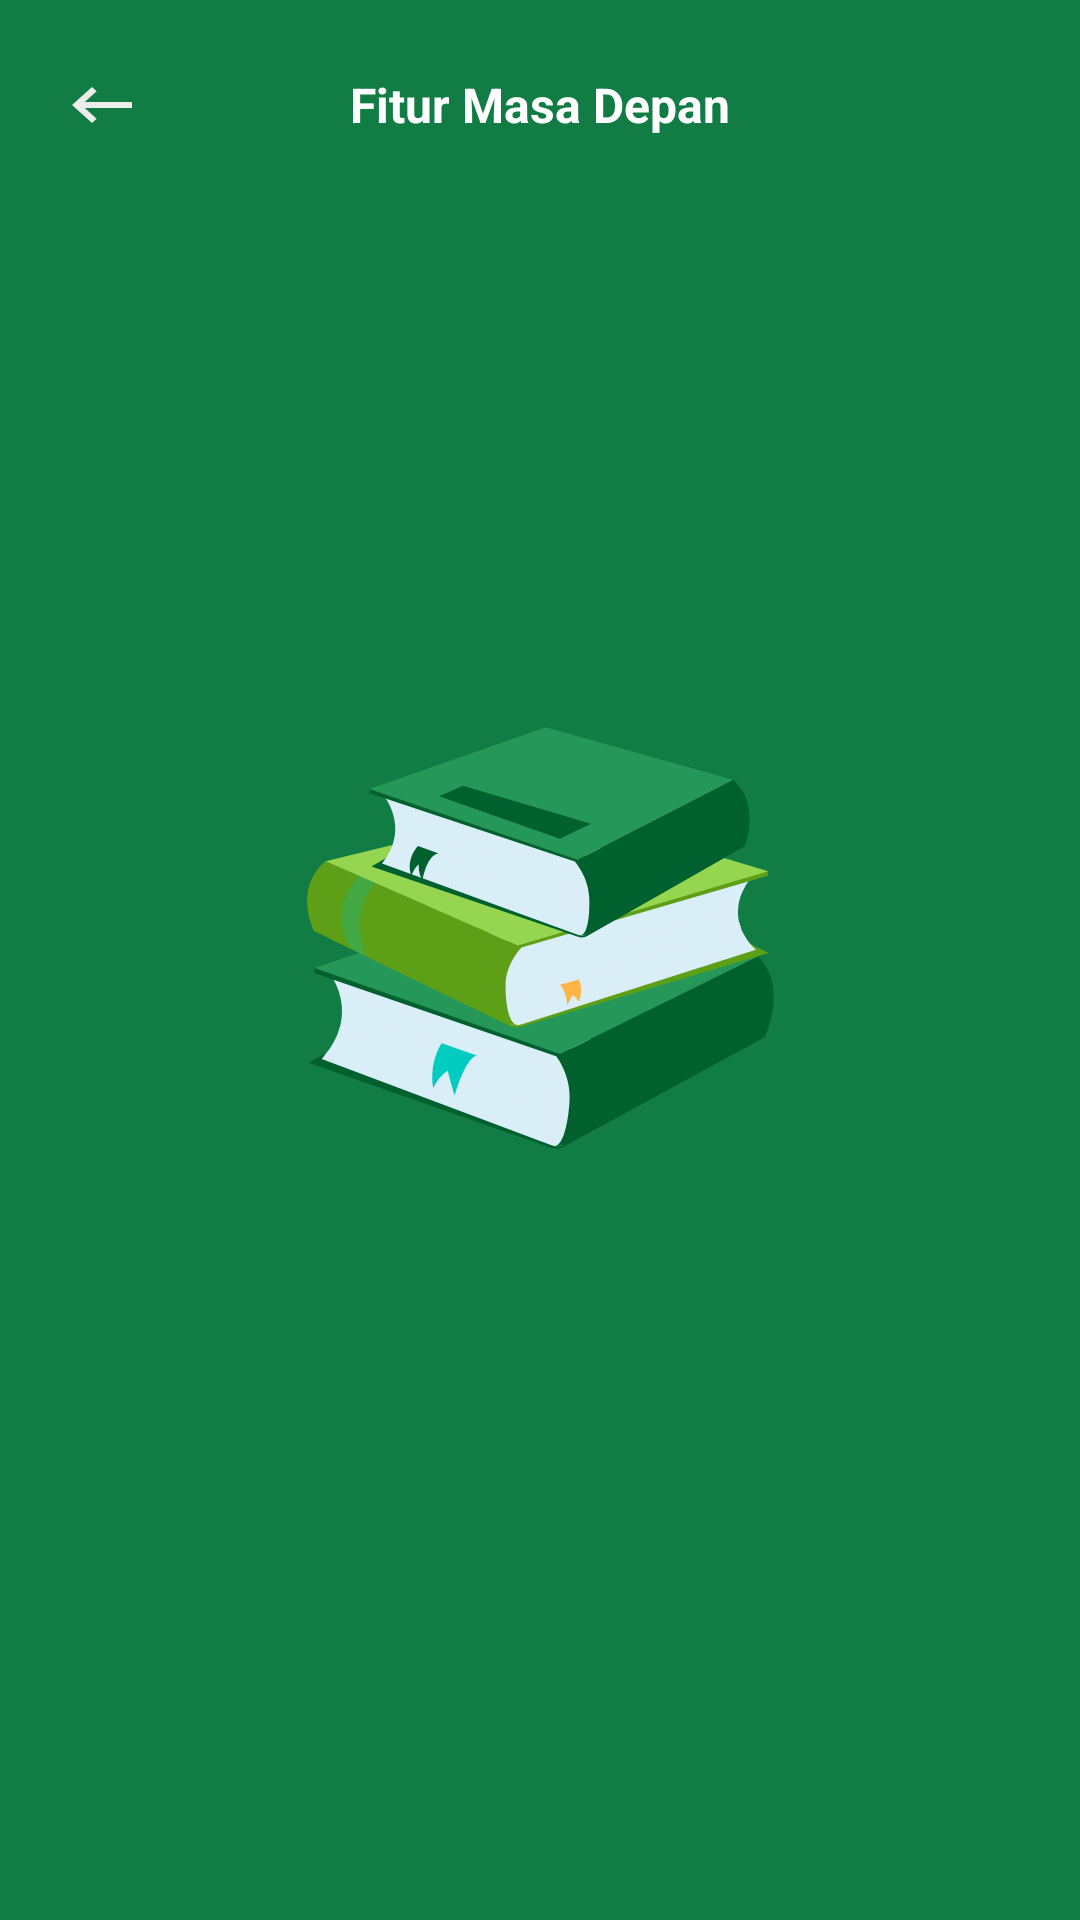

Icon click points for this 1080 × 1920 phone screenshot, format (x,y):
Tombol Mundur: (102,105)
